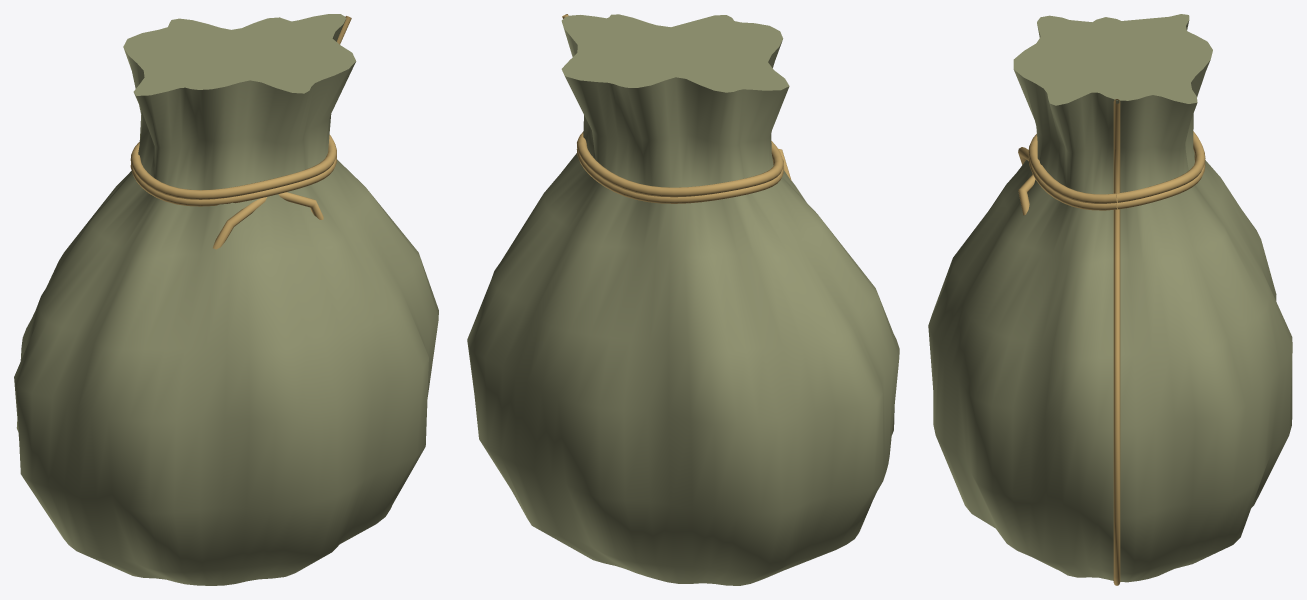
Rendered from bag2.glb.
3 views of the same model, side by side, from view 1: azimuth 30°, elevation 25°; view 2: azimuth 150°, elevation 25°; view 3: azimuth 270°, elevation 25° (orthographic).
Parts seen in each view (by area): view 1: Olive woven cloth, Gold-thread cord; view 2: Olive woven cloth, Gold-thread cord; view 3: Olive woven cloth, Gold-thread cord.
Boxes of the visible parts, <box> form: Olive woven cloth: <box>14,14,438,585</box>; Gold-thread cord: <box>130,16,351,249</box>; Olive woven cloth: <box>467,14,899,585</box>; Gold-thread cord: <box>562,14,791,203</box>; Olive woven cloth: <box>928,14,1292,582</box>; Gold-thread cord: <box>1018,99,1205,585</box>.
Size of the model in its own units: 0.3774 by 0.4525 by 0.3014.
